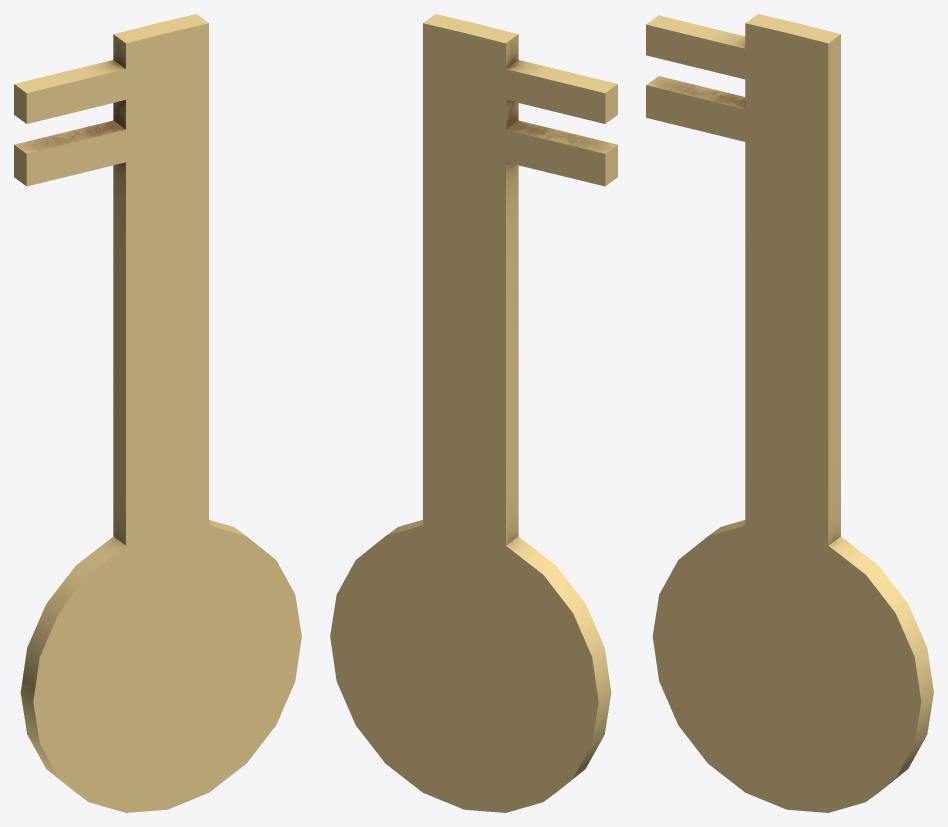
Rendered from Key.fbx.
3 views of the same model, side by side, from view 1: azimuth 30°, elevation 25°; view 2: azimuth 150°, elevation 25°; view 3: azimuth 330°, elevation 25° (orthographic).
Visible parts, largest first — view 1: pCylinder1; view 2: pCylinder1; view 3: pCylinder1.
Boxes of the visible parts, bbox=[...] form: pCylinder1: bbox=[14, 14, 301, 812]; pCylinder1: bbox=[330, 14, 617, 812]; pCylinder1: bbox=[646, 14, 933, 812].
Bounding box in the file's own units: 1.24 × 3.35 × 0.0989.
1 material, 1 textured.
